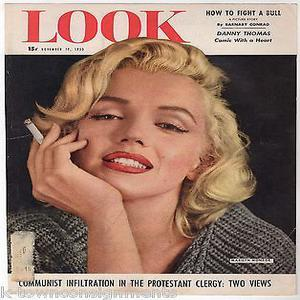cigarette: (25, 118, 46, 147)
